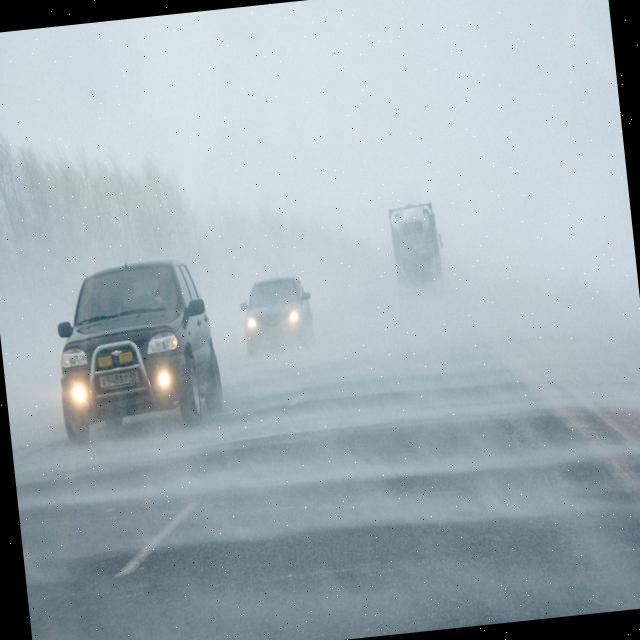bus: (387, 200, 449, 308)
car: (48, 257, 225, 445), (237, 272, 317, 354)
